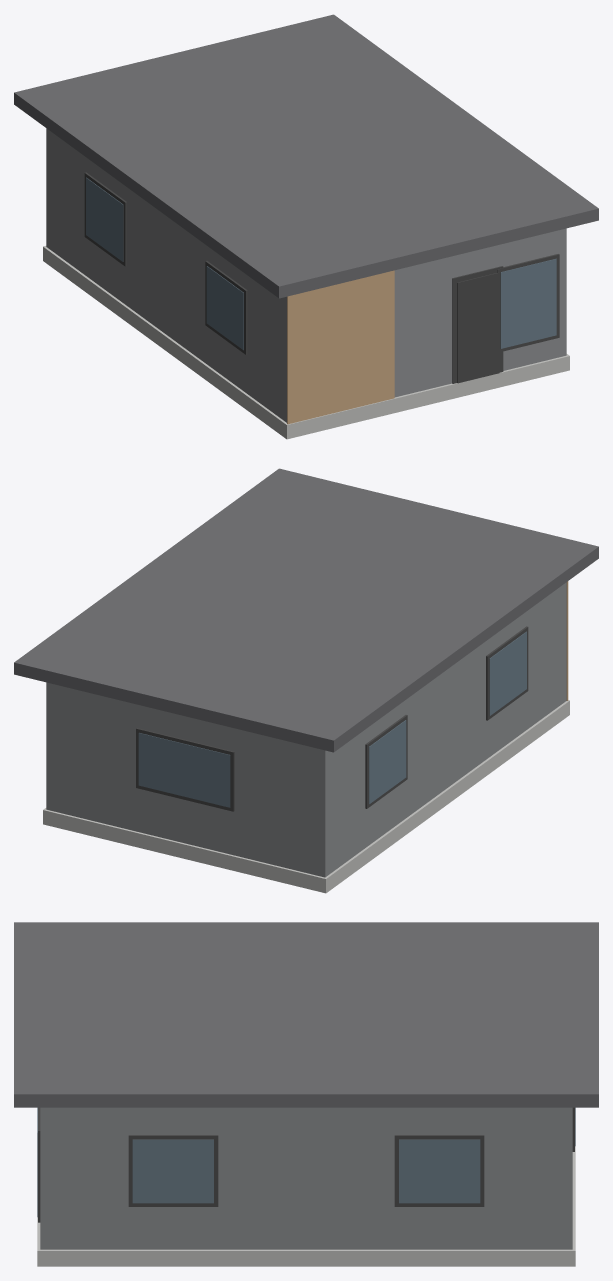
The model's file is one-bed-modern.glb.
3 renders of one model, top to bottom at view 1: azimuth 30°, elevation 25°; view 2: azimuth 150°, elevation 25°; view 3: azimuth 270°, elevation 25°, orthographic. The views are drawn at different scales.
Parts seen in each view (by area): view 1: The Ripon (modern); view 2: The Ripon (modern); view 3: The Ripon (modern).
Boxes of the visible parts, x1,y1,x2,y2 form: The Ripon (modern): [14, 14, 598, 439]; The Ripon (modern): [14, 468, 598, 893]; The Ripon (modern): [14, 922, 598, 1266].
Bounding box in the file's own units: 7 × 3.45 × 10.04.
